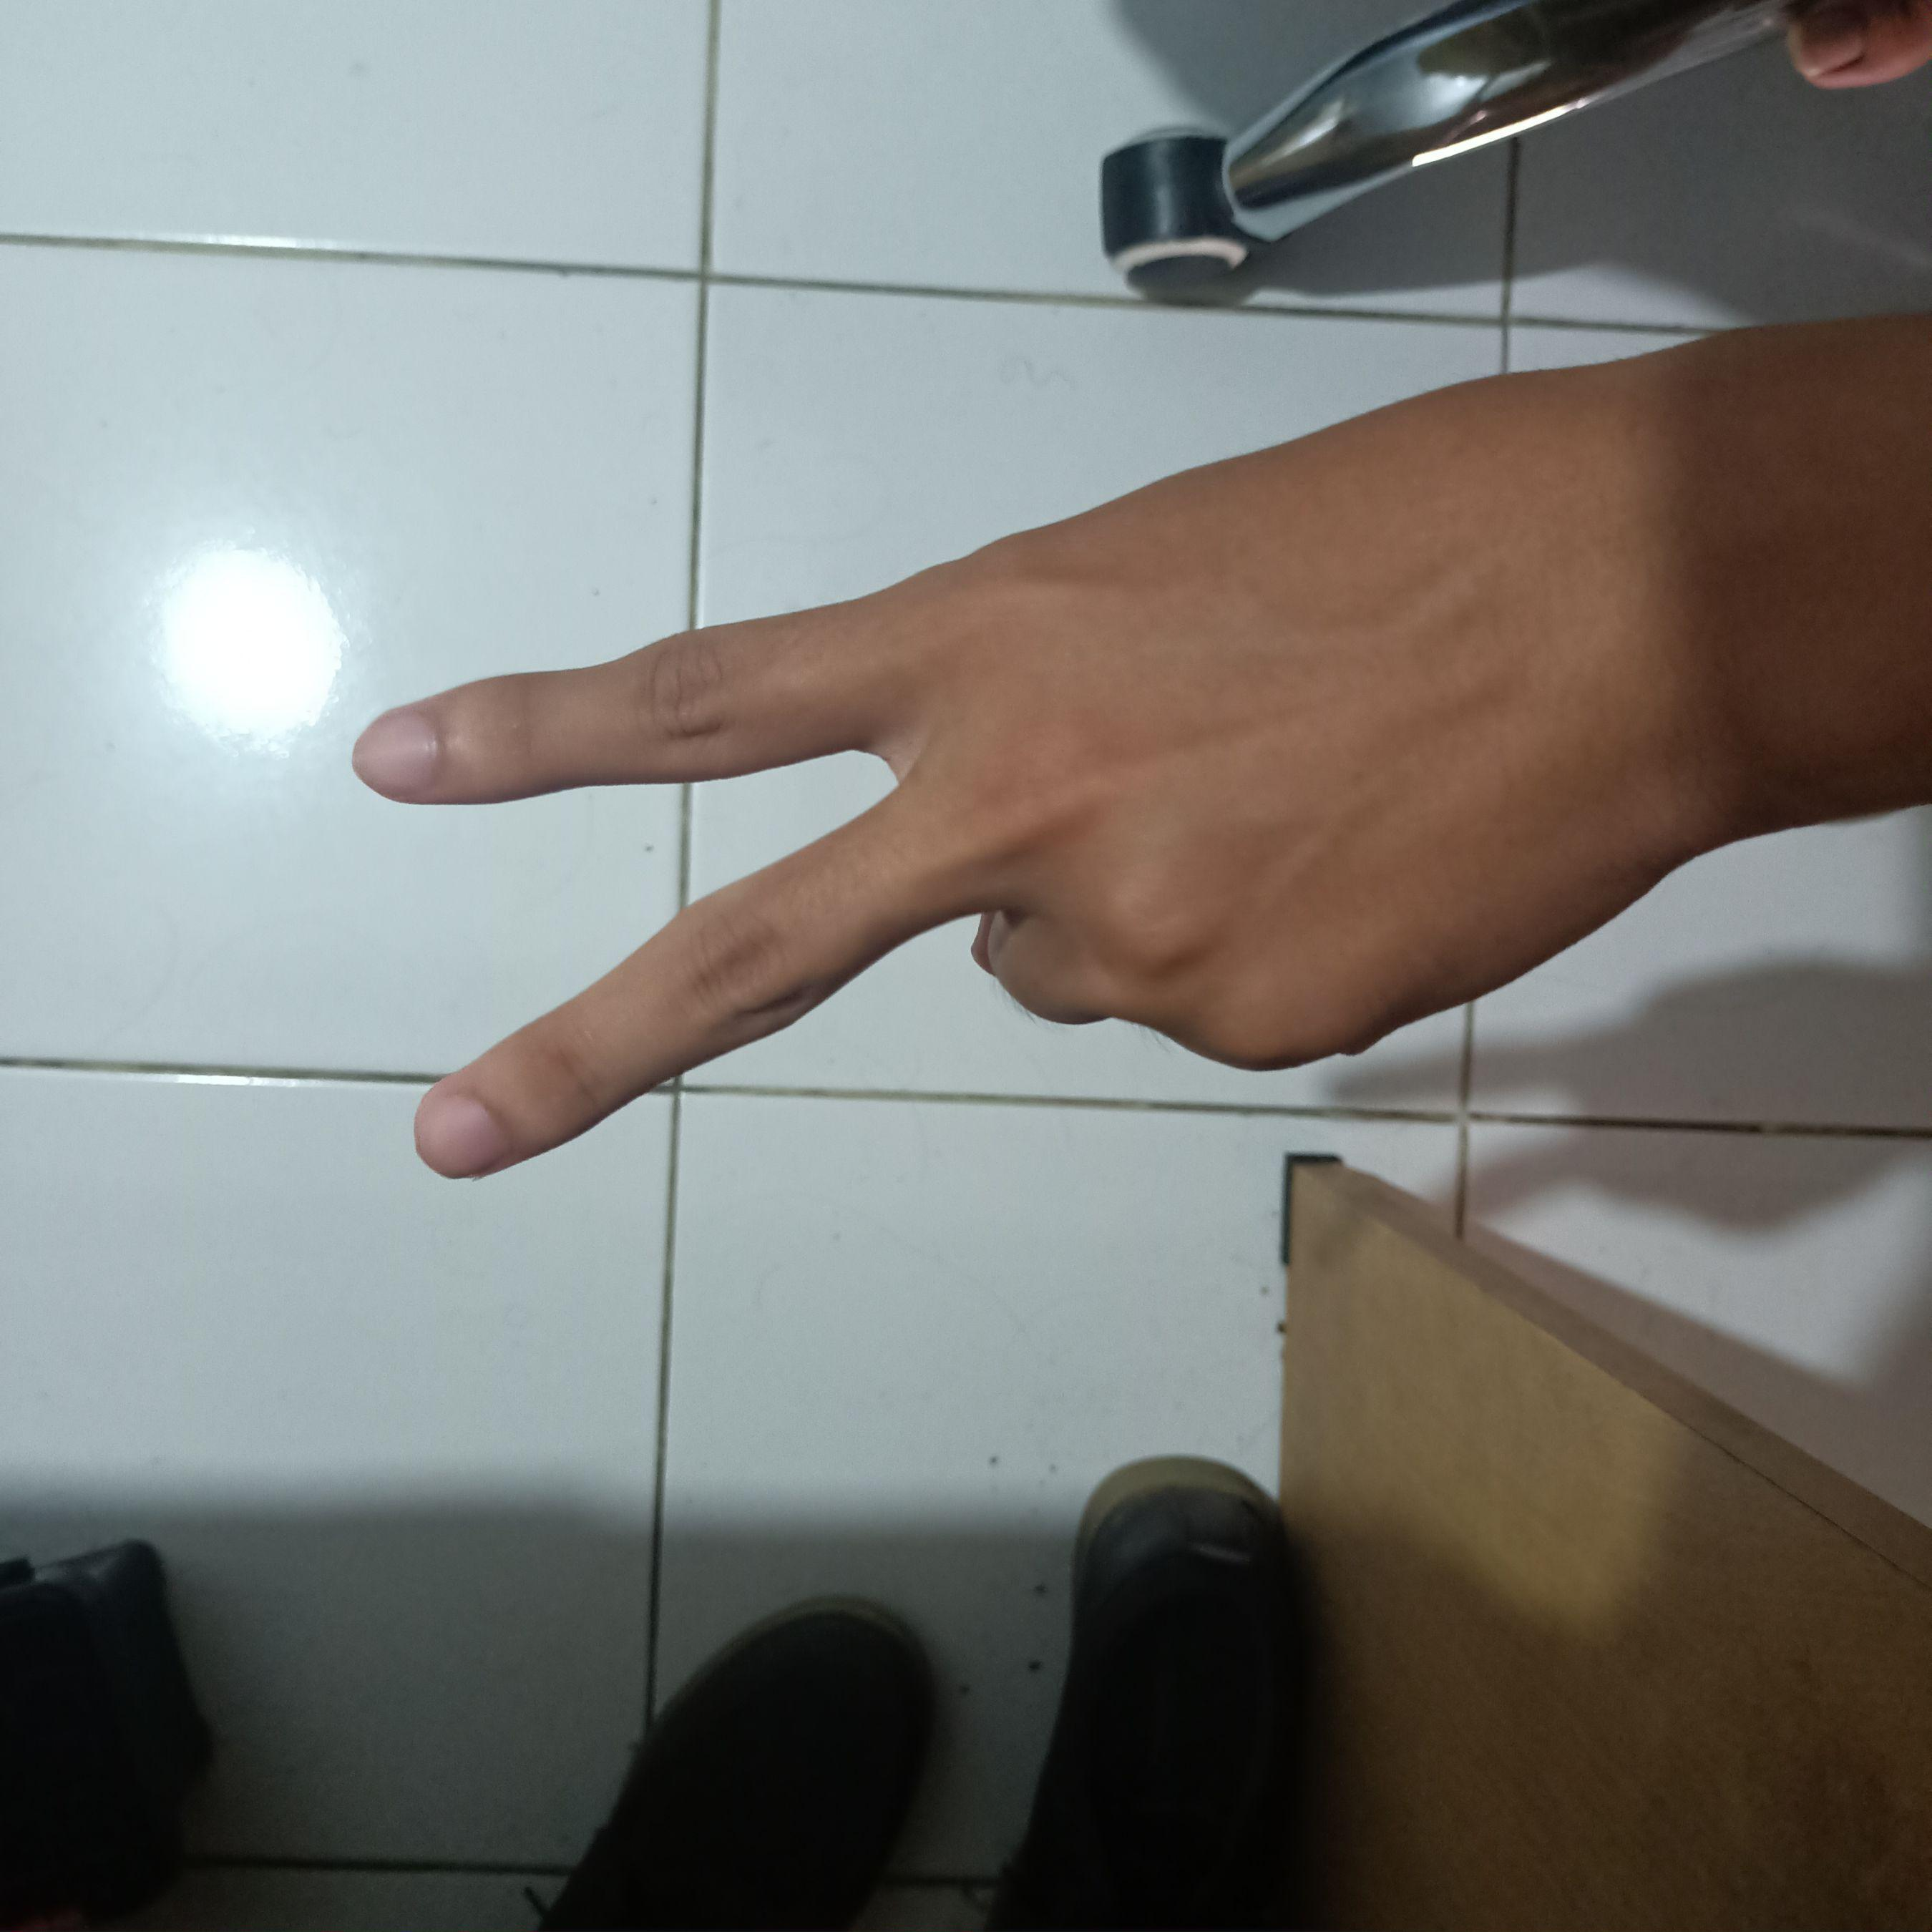scissors: (311, 315, 1799, 1201)
